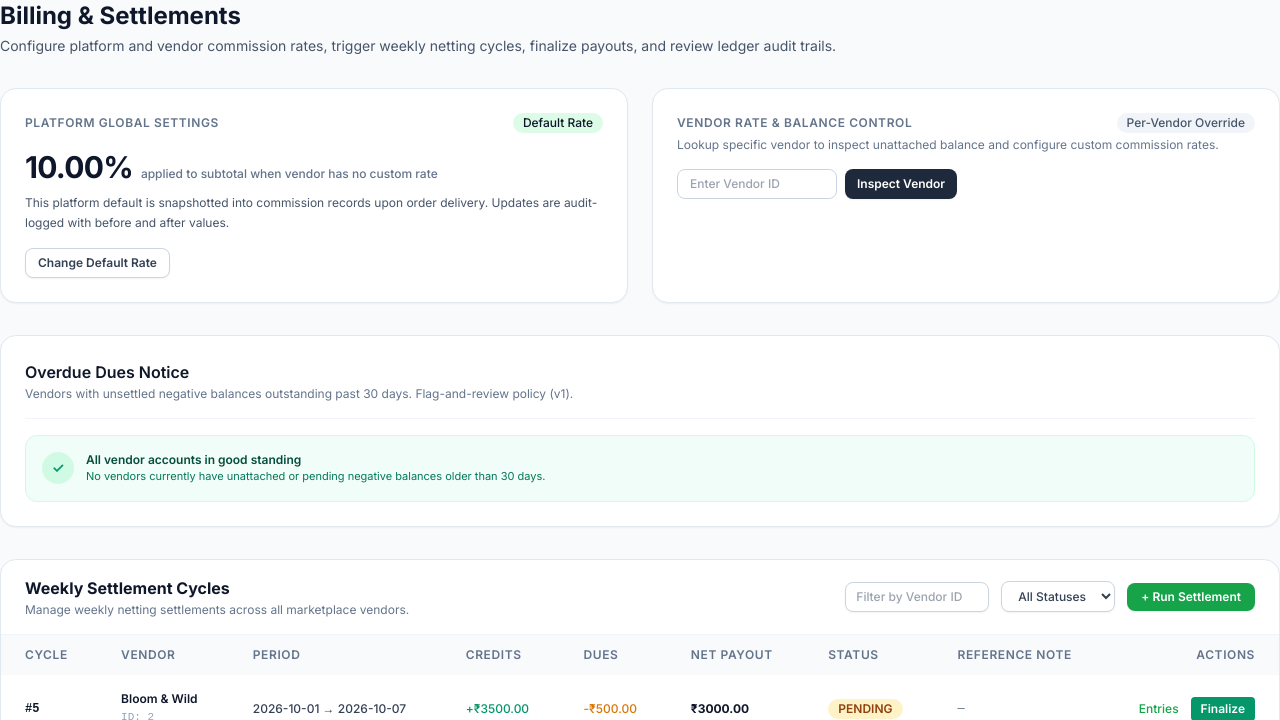
Scenario: AdminBillingPage › opens finalize modal when finalize button clicked on pending settlement
This screenshot has width=1280, height=720.
Step 1. Click the button "Finalize" → {"x": 1223, "y": 708}, box [1191,696,1255,719]
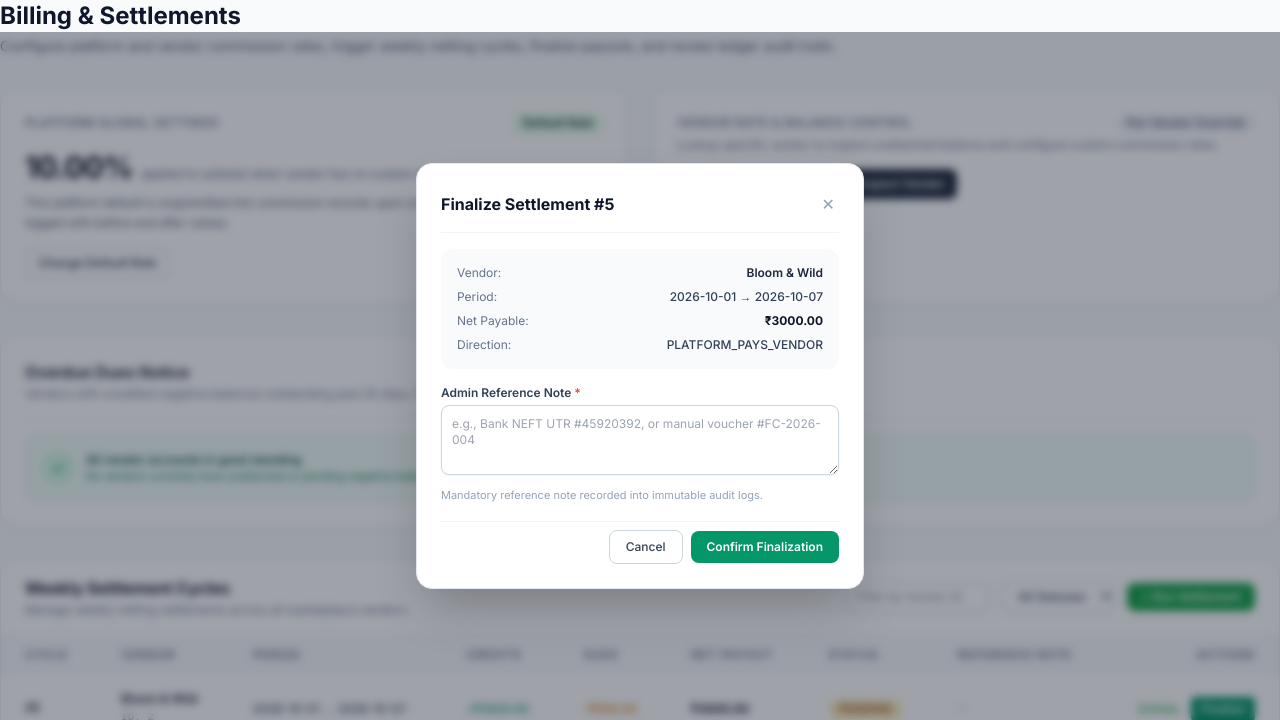
Expected: the element with test id "finalize-settlement-modal" is shown
Expected: the text box labelled "Admin Reference Note *" is shown, [441,405,839,475]
